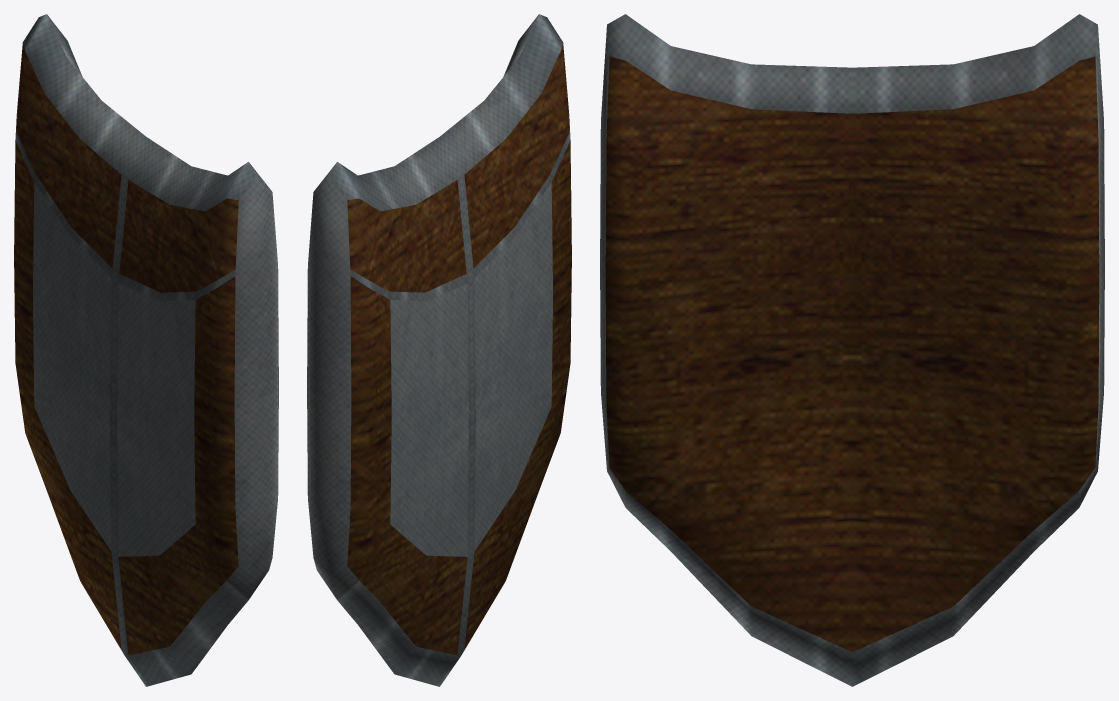
File: Shield.glb
3 renders of one model, left to right at view 1: azimuth 30°, elevation 25°; view 2: azimuth 150°, elevation 25°; view 3: azimuth 270°, elevation 25°, orthographic. The views are drawn at different scales.
Parts seen in each view (by area): view 1: Shield; view 2: Shield; view 3: Shield.
Boxes of the visible parts, x1,y1,x2,y2 form: Shield: [14, 14, 278, 686]; Shield: [307, 14, 571, 686]; Shield: [600, 14, 1104, 686].
Bounding box in the file's own units: 0.0943 × 0.8768 × 0.5955.
Materials: 3 (3 with a texture image).
